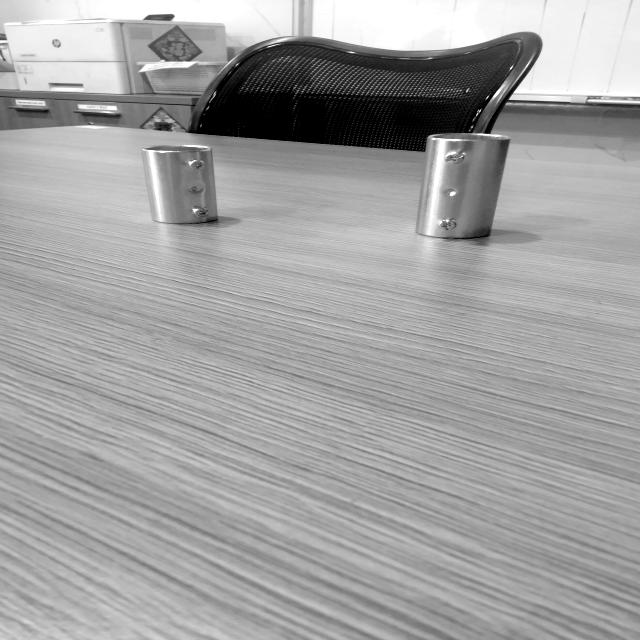Co_Lon: (415, 126, 510, 245)
Co_Nho: (142, 142, 218, 227)
